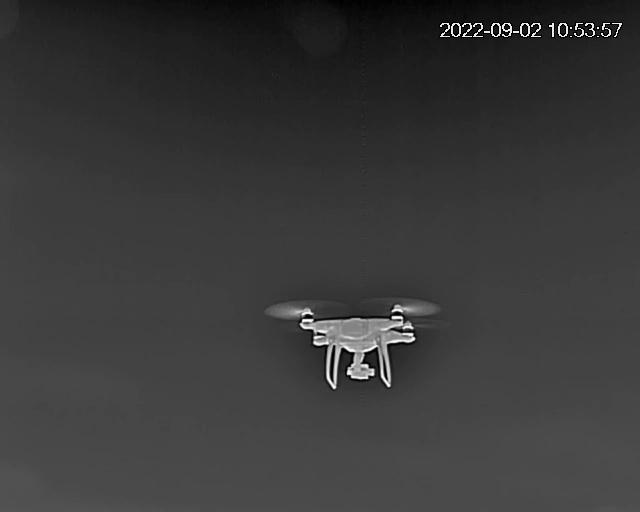DJI-Phantom: (265, 296, 443, 390)
